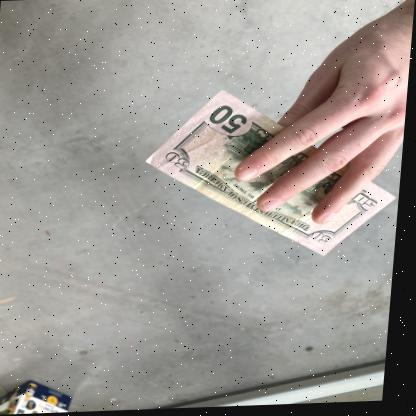fifty-back: (146, 89, 398, 260)
